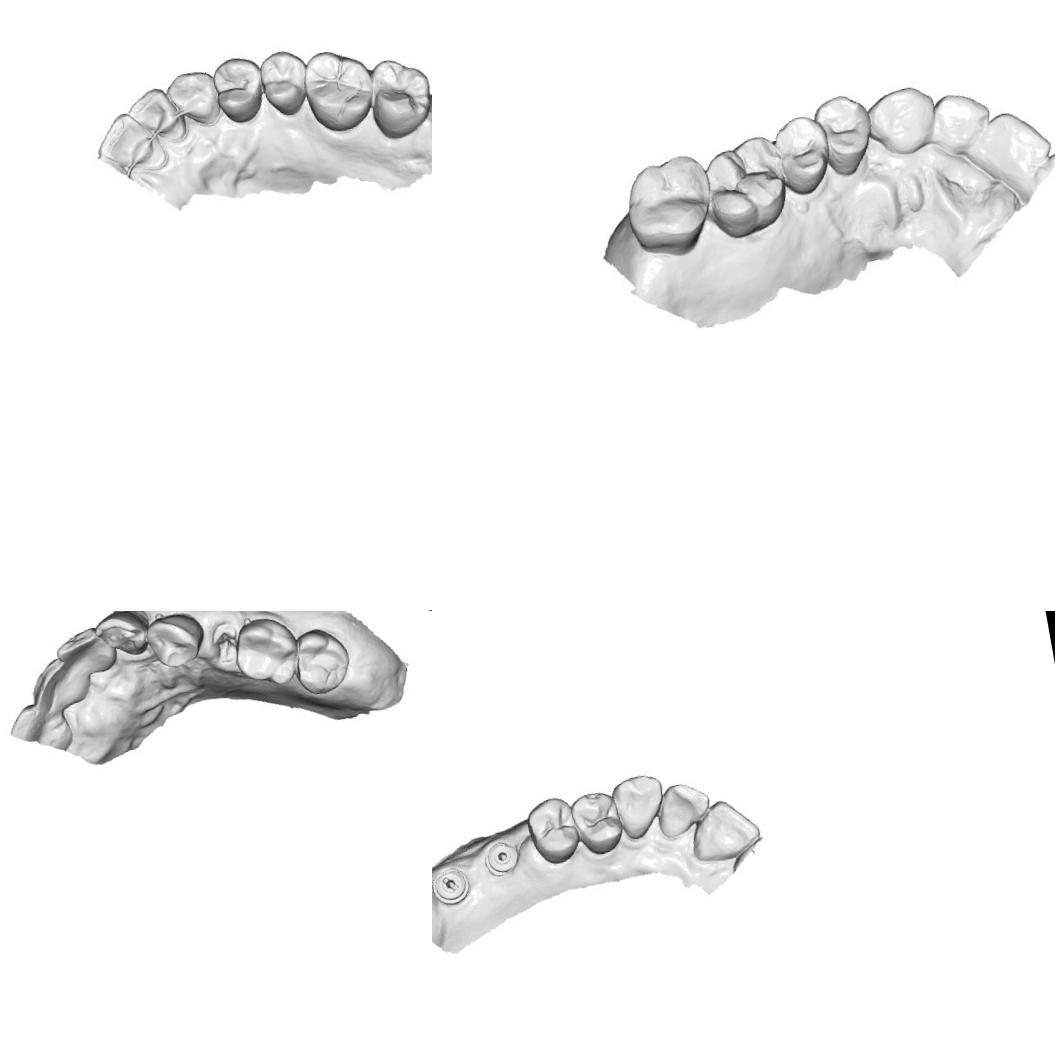canine: (863, 79, 943, 161), (608, 769, 671, 843), (165, 64, 225, 130), (87, 611, 153, 663)
implant: (480, 836, 524, 879)
implant_minus: (432, 864, 473, 908)
incisor: (966, 102, 1055, 185), (683, 792, 764, 866), (924, 87, 996, 158), (93, 106, 162, 176), (122, 81, 188, 148), (5, 696, 75, 758), (24, 652, 93, 714), (651, 777, 715, 843), (51, 622, 120, 681)
molar: (616, 148, 722, 264), (696, 130, 798, 244), (295, 42, 380, 136), (226, 611, 306, 693), (362, 51, 432, 144), (287, 622, 356, 699)
premolar: (809, 87, 879, 180), (770, 110, 838, 200), (521, 791, 584, 870), (207, 52, 269, 126), (568, 787, 626, 858), (142, 611, 209, 672), (258, 47, 314, 119)
